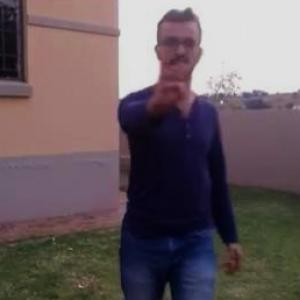takeoff-hand: (146, 50, 192, 120)
